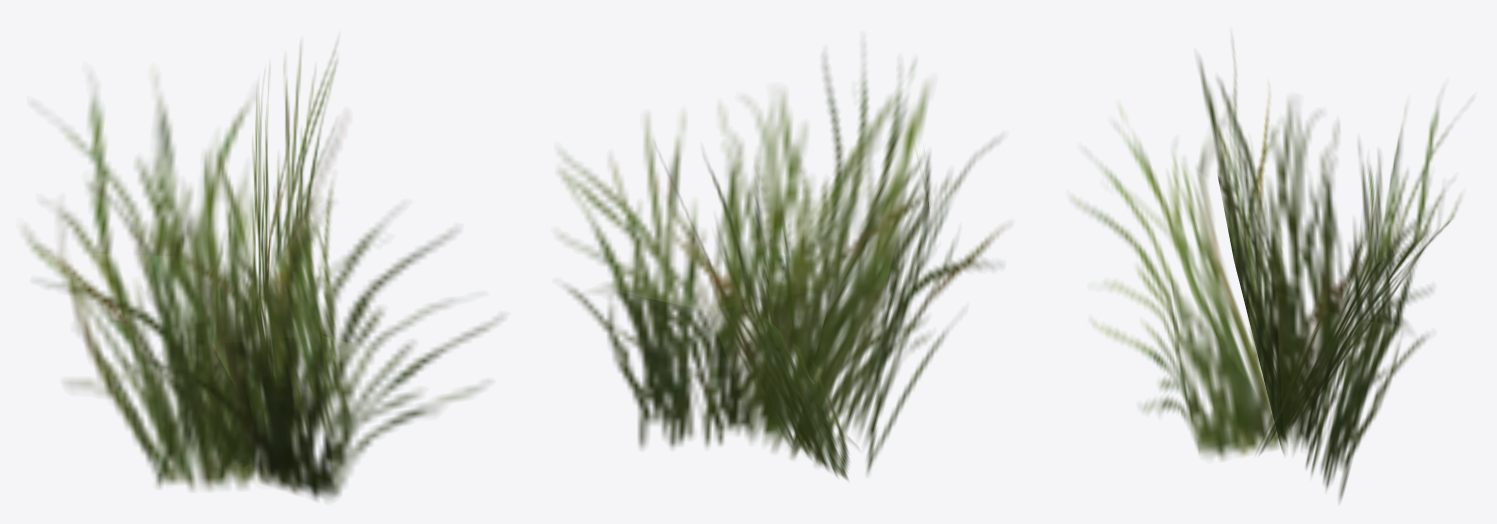
The model's file is bush-small.lod0.glb.
The picture shows the model from 3 angles, left to right: view 1: azimuth 30°, elevation 25°; view 2: azimuth 150°, elevation 25°; view 3: azimuth 270°, elevation 25°; orthographic projection. The views are drawn at different scales.
Parts seen in each view (by area): view 1: Small_bush_1_phong3_0; view 2: Small_bush_1_phong3_0; view 3: Small_bush_1_phong3_0.
Boxes of the visible parts, x1,y1,x2,y2 form: Small_bush_1_phong3_0: [24, 42, 500, 500]; Small_bush_1_phong3_0: [558, 55, 1004, 480]; Small_bush_1_phong3_0: [1071, 39, 1460, 501].
Bounding box in the file's own units: 0.9432 × 0.9 × 0.9463.
1 material, 1 textured.
